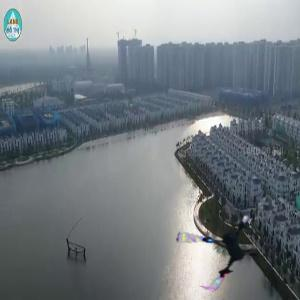drone: (176, 208, 266, 298)
